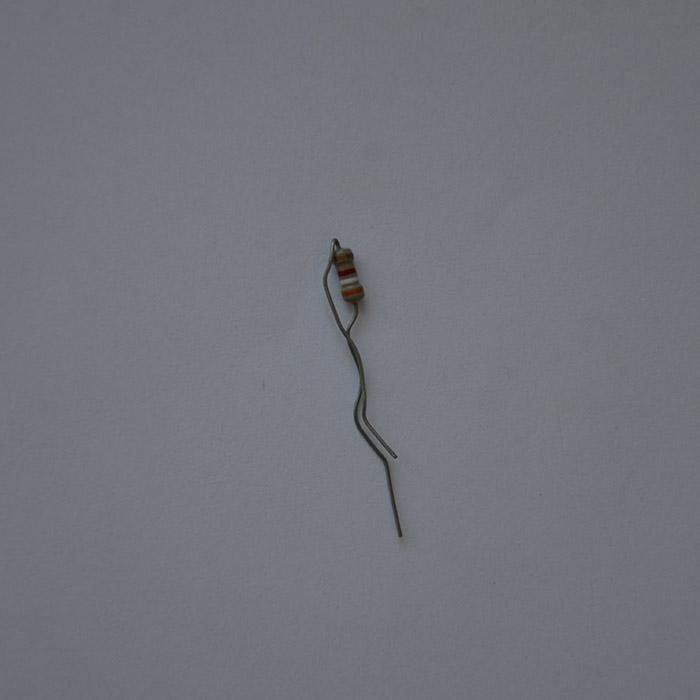resistor: (331, 244, 365, 304)
